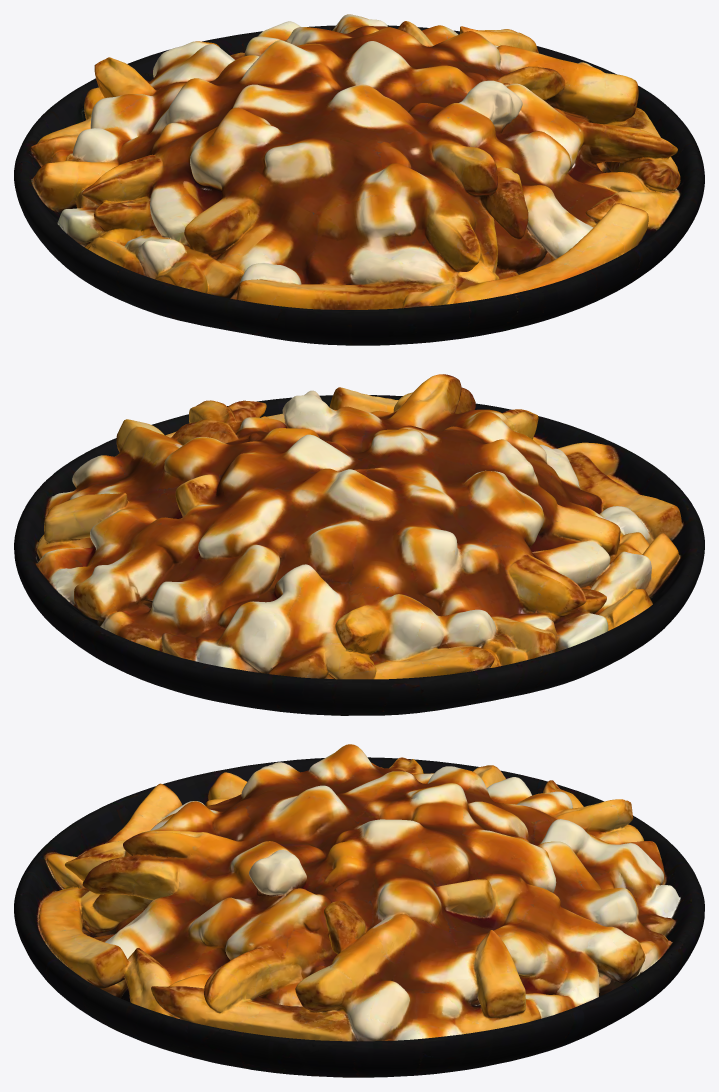
Rendered from poutine-mobile.glb.
3 renders of one model, top to bottom at view 1: azimuth 30°, elevation 25°; view 2: azimuth 150°, elevation 25°; view 3: azimuth 270°, elevation 25°, orthographic.
Parts seen in each view (by area): view 1: Mesh_0.003; view 2: Mesh_0.003; view 3: Mesh_0.003.
Boxes of the visible parts, x1,y1,x2,y2 form: Mesh_0.003: (14, 14, 704, 345); Mesh_0.003: (14, 374, 704, 715); Mesh_0.003: (14, 744, 704, 1077).
Size of the model in its own units: 0.1109 by 0.03 by 0.1109.
Materials: 1 (1 with a texture image).
